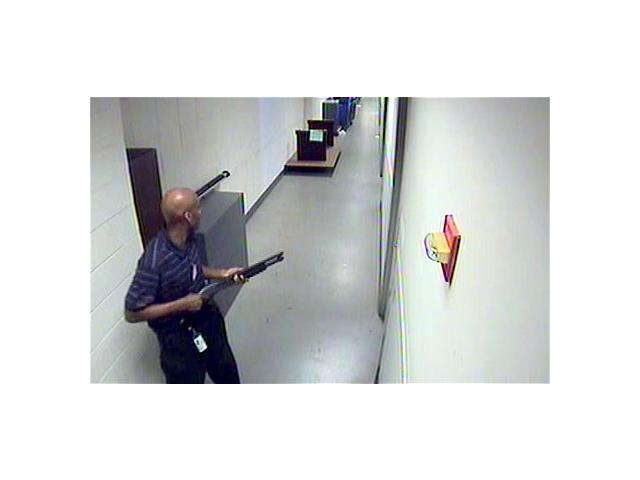rifle: (177, 247, 289, 317)
